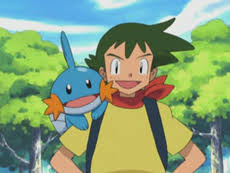mudkip: (46, 28, 117, 145)
